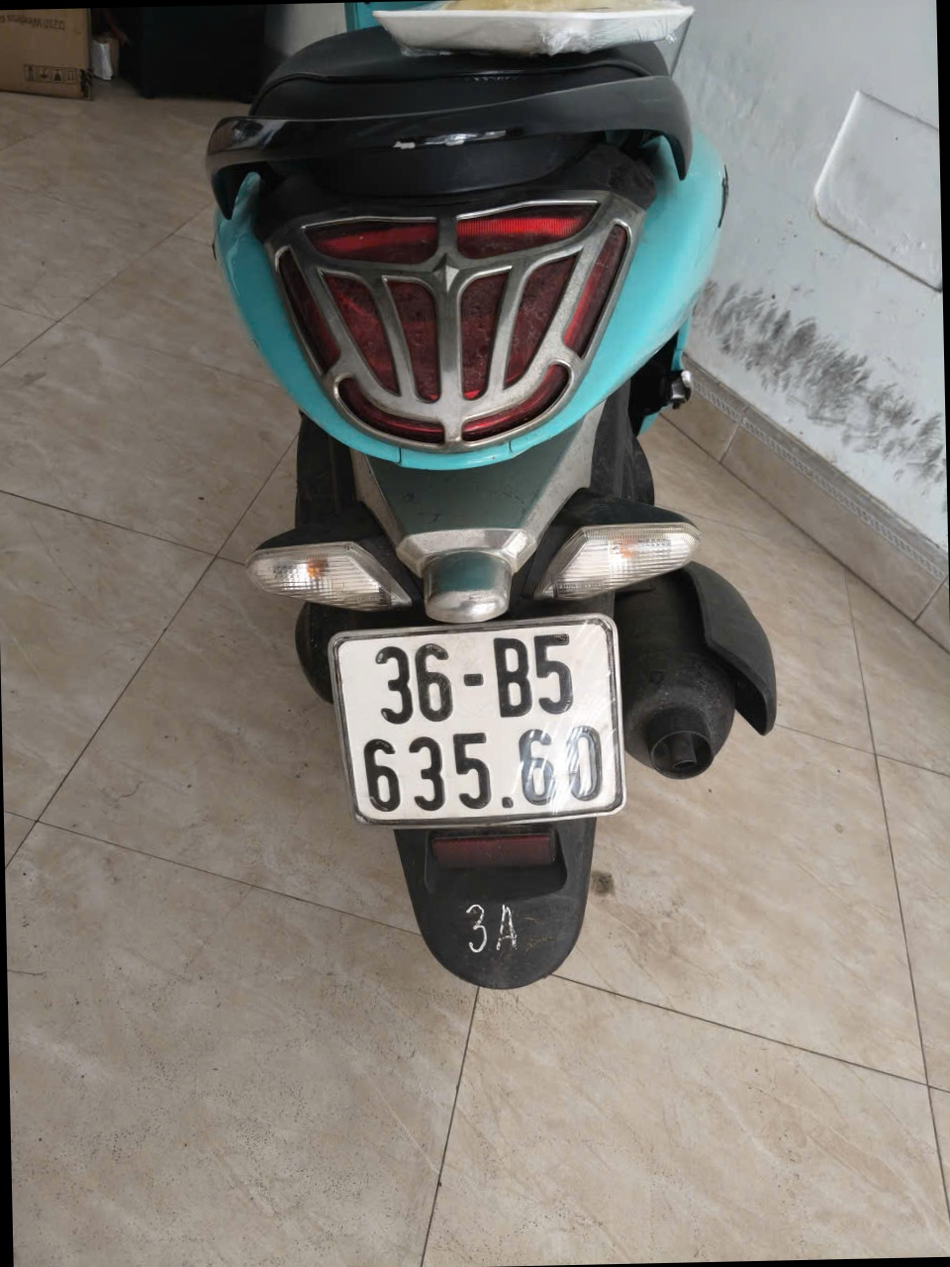plate: (529, 14, 691, 50)
